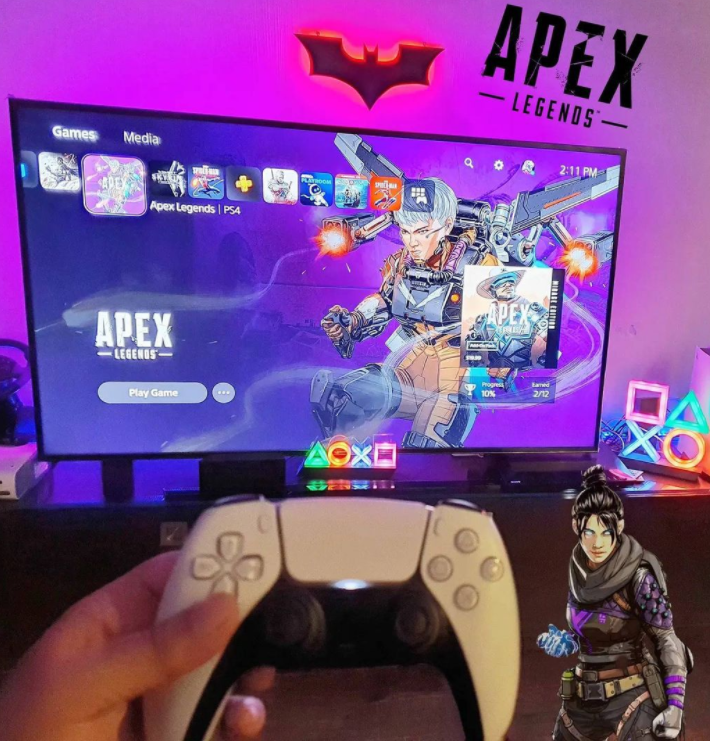gamingconsole: (138, 493, 520, 739)
